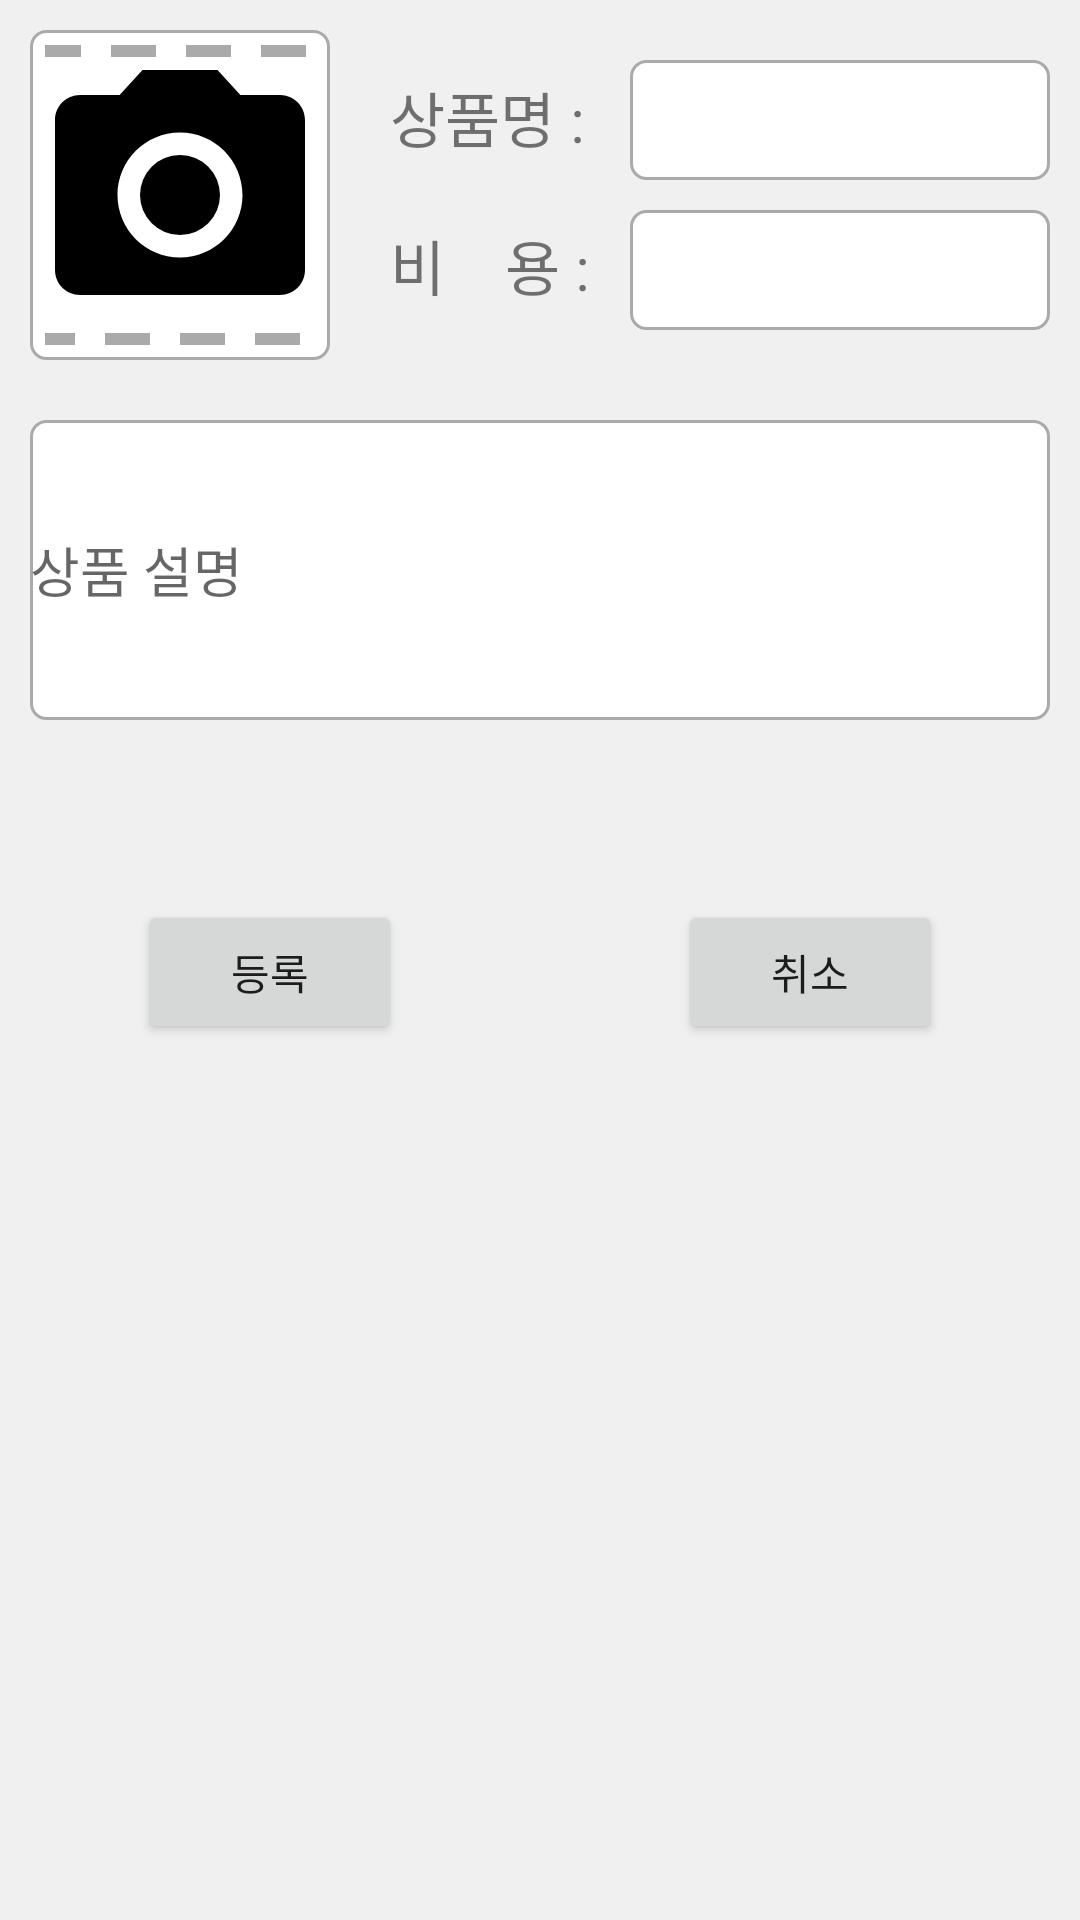

Locate icon controls on the screen. Image size 1080 × 1920, boxes as (x1, y1, x2, y2).
camera: (45, 45, 306, 345)
